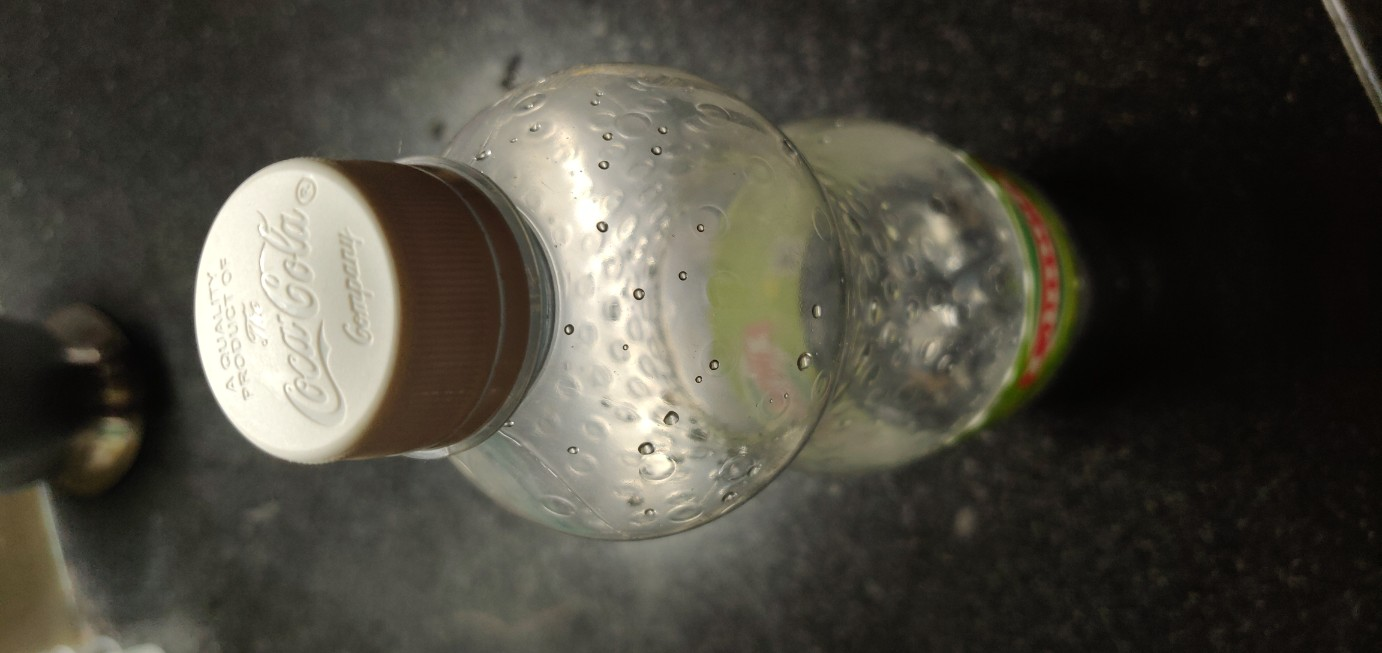Electronics: (158, 17, 1124, 565)
